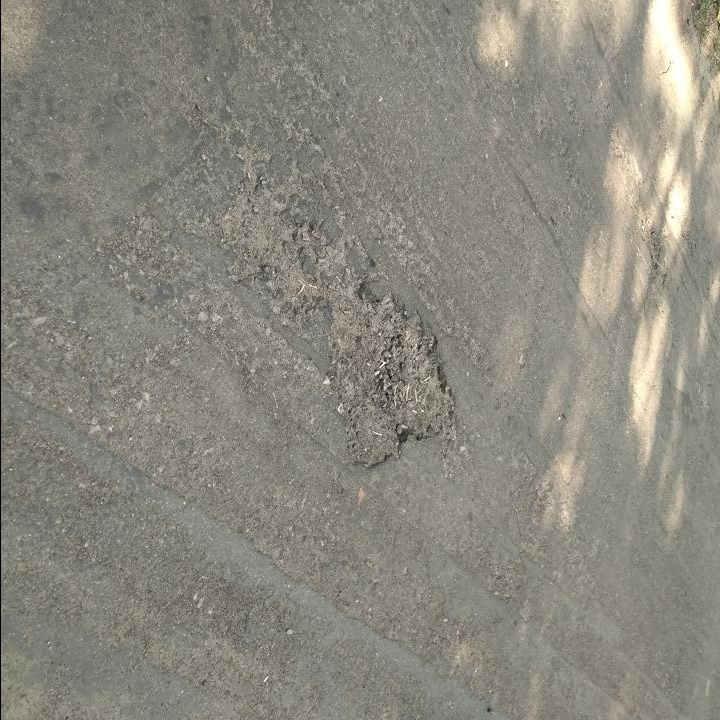pothole: (313, 278, 458, 470), (221, 165, 319, 321), (636, 200, 665, 275)
